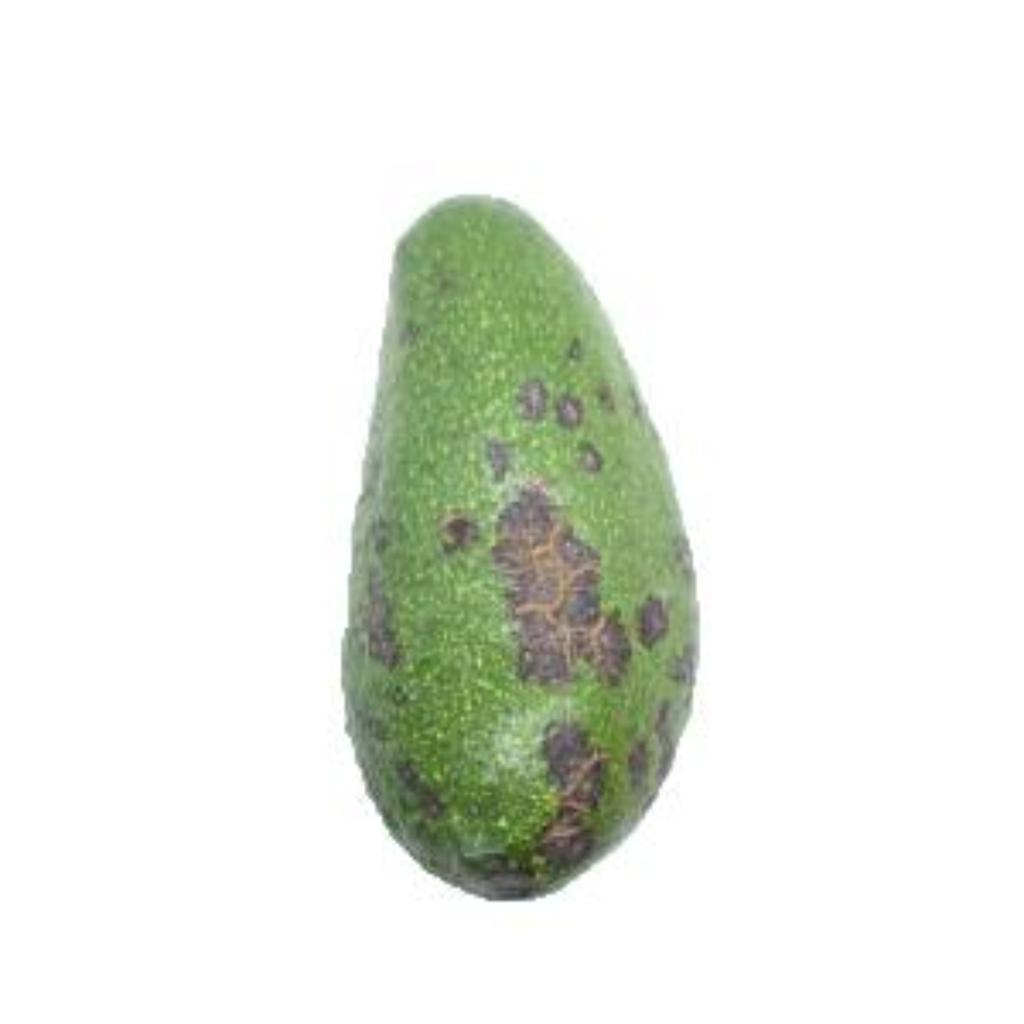cercospora_spot: (318, 174, 724, 908)
